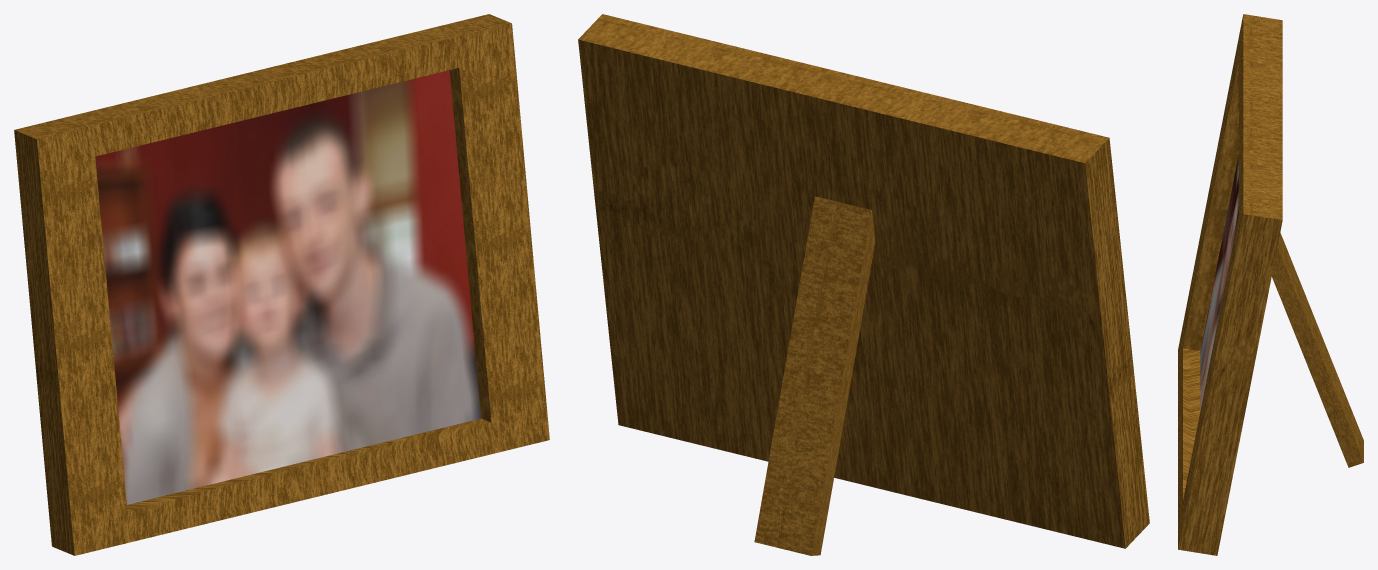
File: PictureMain.FBX
The picture shows the model from 3 angles, left to right: view 1: azimuth 30°, elevation 25°; view 2: azimuth 150°, elevation 25°; view 3: azimuth 270°, elevation 25°; orthographic projection. The views are drawn at different scales.
Parts seen in each view (by area): view 1: Box001; view 2: Box001, Box002; view 3: Box001, Box002.
Boxes of the visible parts, x1=… form: Box001: x1=14, y1=14, x2=549, y2=555; Box001: x1=578, y1=14, x2=1149, y2=548; Box002: x1=754, y1=196, x2=875, y2=555; Box001: x1=1178, y1=14, x2=1282, y2=555; Box002: x1=1271, y1=233, x2=1363, y2=467.
Size of the model in its own units: 63.17 by 50.53 by 24.8.
2 materials, 2 textured.
